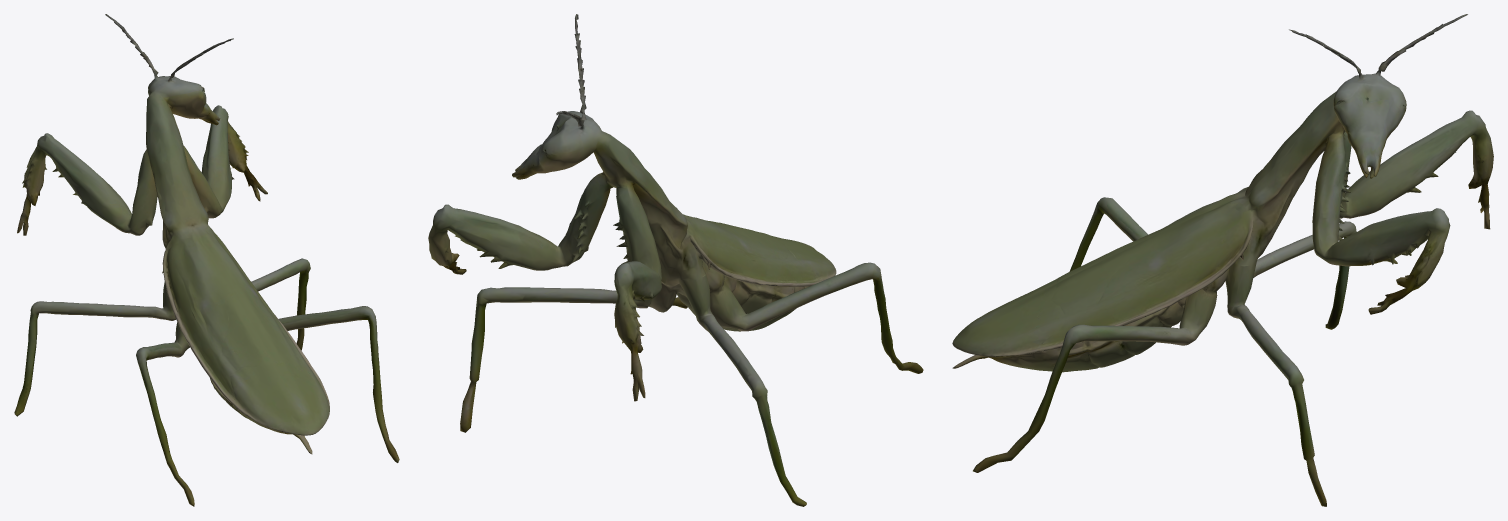
File: mantis_sebas.fbx
The picture shows the model from 3 angles, left to right: view 1: azimuth 30°, elevation 25°; view 2: azimuth 150°, elevation 25°; view 3: azimuth 270°, elevation 25°; orthographic projection. The views are drawn at different scales.
Visible parts, largest first — view 1: tripo_node_7cddad4c; view 2: tripo_node_7cddad4c; view 3: tripo_node_7cddad4c.
Boxes of the visible parts, x1,y1,x2,y2 form: tripo_node_7cddad4c: (14, 14, 399, 506); tripo_node_7cddad4c: (428, 14, 923, 506); tripo_node_7cddad4c: (952, 14, 1493, 506).
Size of the model in its own units: 0.7362 by 0.8604 by 0.9823.
